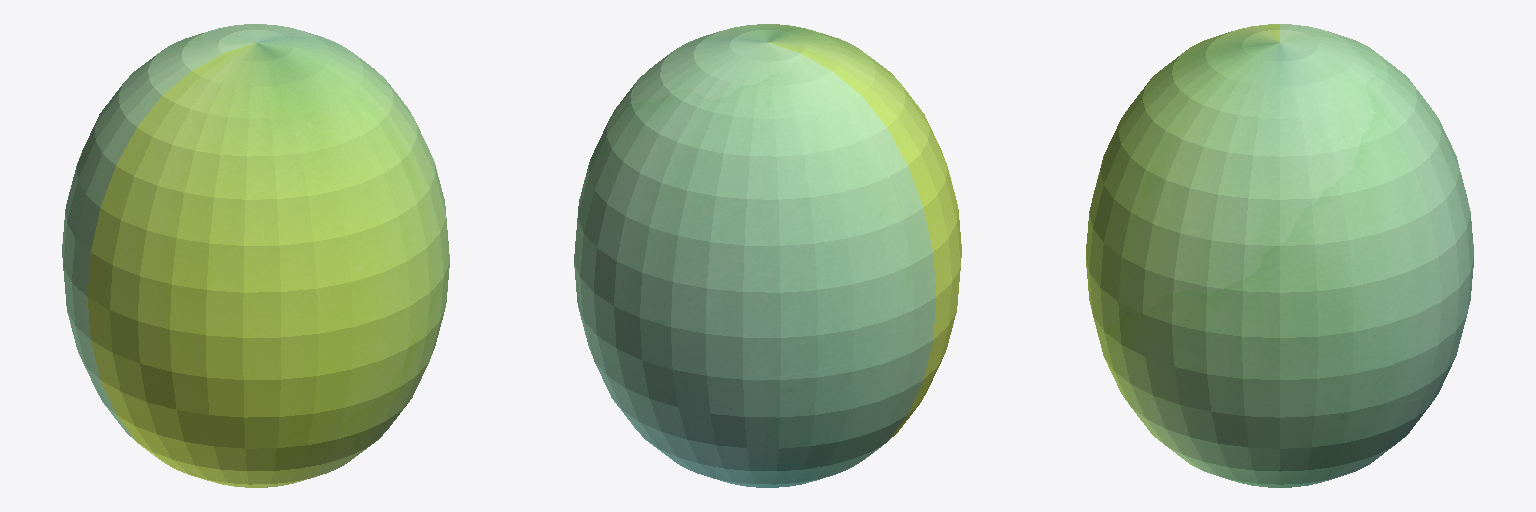
3 views of the same model, side by side, from view 1: azimuth 30°, elevation 25°; view 2: azimuth 150°, elevation 25°; view 3: azimuth 270°, elevation 25° (orthographic).
Parts seen in each view (by area): view 1: Sphere; view 2: Sphere; view 3: Sphere.
Boxes of the visible parts, x1,y1,x2,y2 form: Sphere: [62, 24, 449, 487]; Sphere: [574, 24, 961, 487]; Sphere: [1086, 24, 1473, 487].
Bounding box in the file's own units: 2 × 2.42 × 2.
Materials: 1 (1 with a texture image).